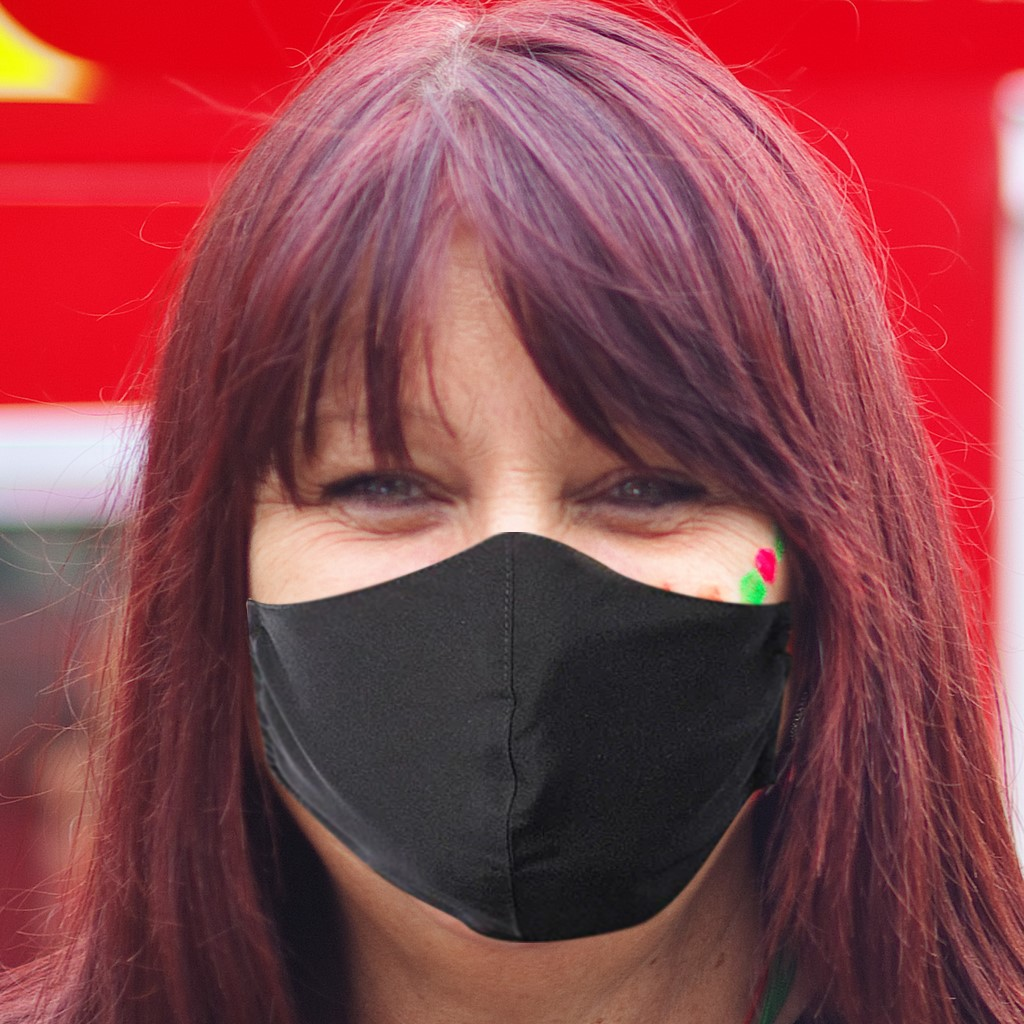con_mascara: (235, 193, 812, 957)
